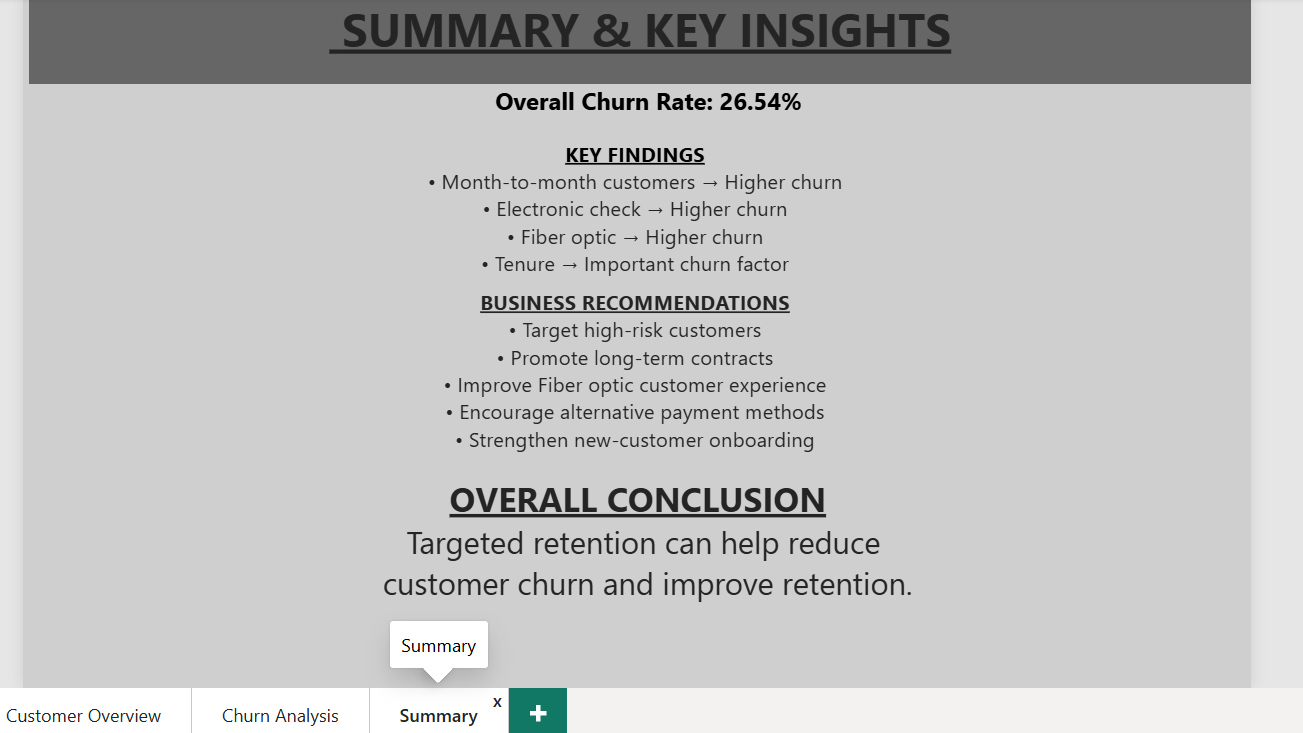

The page's visual inventory and layout, read from the dashboard file:
{"tool":"powerbi","page":{"name":"Summary","canvas":[1920,1080],"ordinal":2},"visuals":[{"type":"textbox","box":[9.4,0,1910.8,136],"z":0},{"type":"textbox","box":[9.4,136,1894.3,907.3],"z":1}]}

Visuals, with their boxes on the page's 1920x1080 design canvas (x1, y1, x2, y2). These are canvas units, not pixel positions in the 1303x733 screenshot, which may show the page scaled, cropped or inside an application window:
textbox: select_region(9, 0, 1920, 136)
textbox: select_region(9, 136, 1904, 1043)
